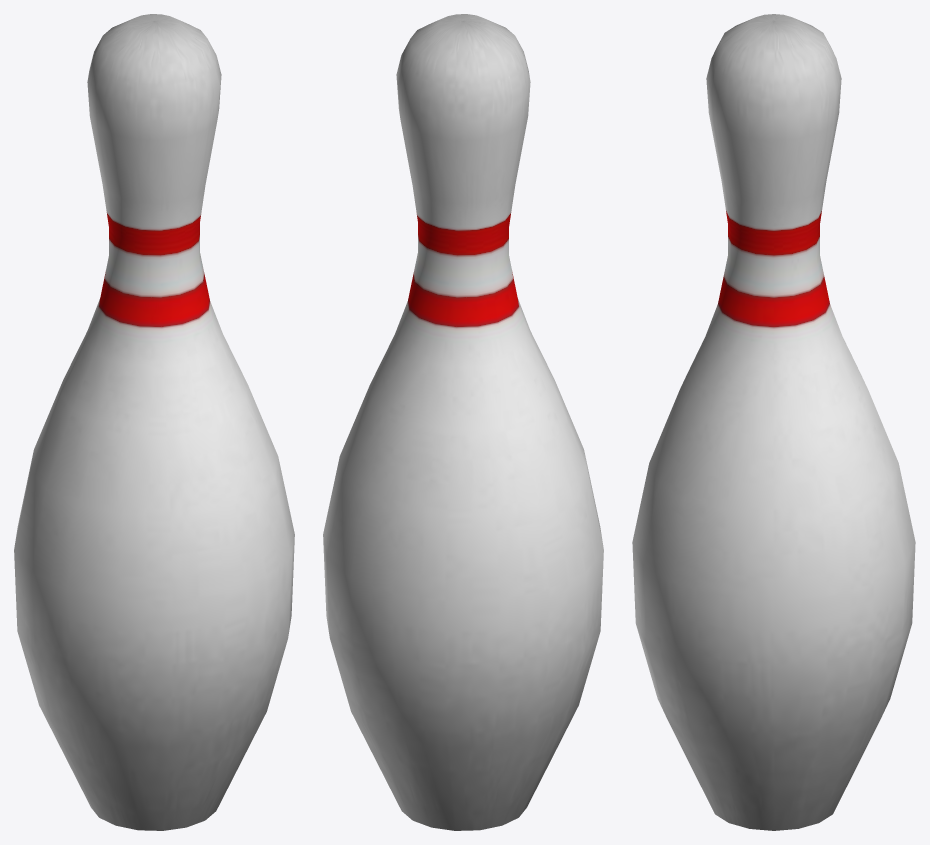
File: pin.obj
The picture shows the model from 3 angles, left to right: view 1: azimuth 30°, elevation 25°; view 2: azimuth 150°, elevation 25°; view 3: azimuth 270°, elevation 25°; orthographic projection.
Parts seen in each view (by area): view 1: Pin; view 2: Pin; view 3: Pin.
Boxes of the visible parts, bbox=[...] form: Pin: bbox=[14, 14, 294, 830]; Pin: bbox=[323, 14, 603, 830]; Pin: bbox=[632, 14, 915, 830].
Bounding box in the file's own units: 0.1249 × 0.3807 × 0.1249.
Materials: 1 (1 with a texture image).
